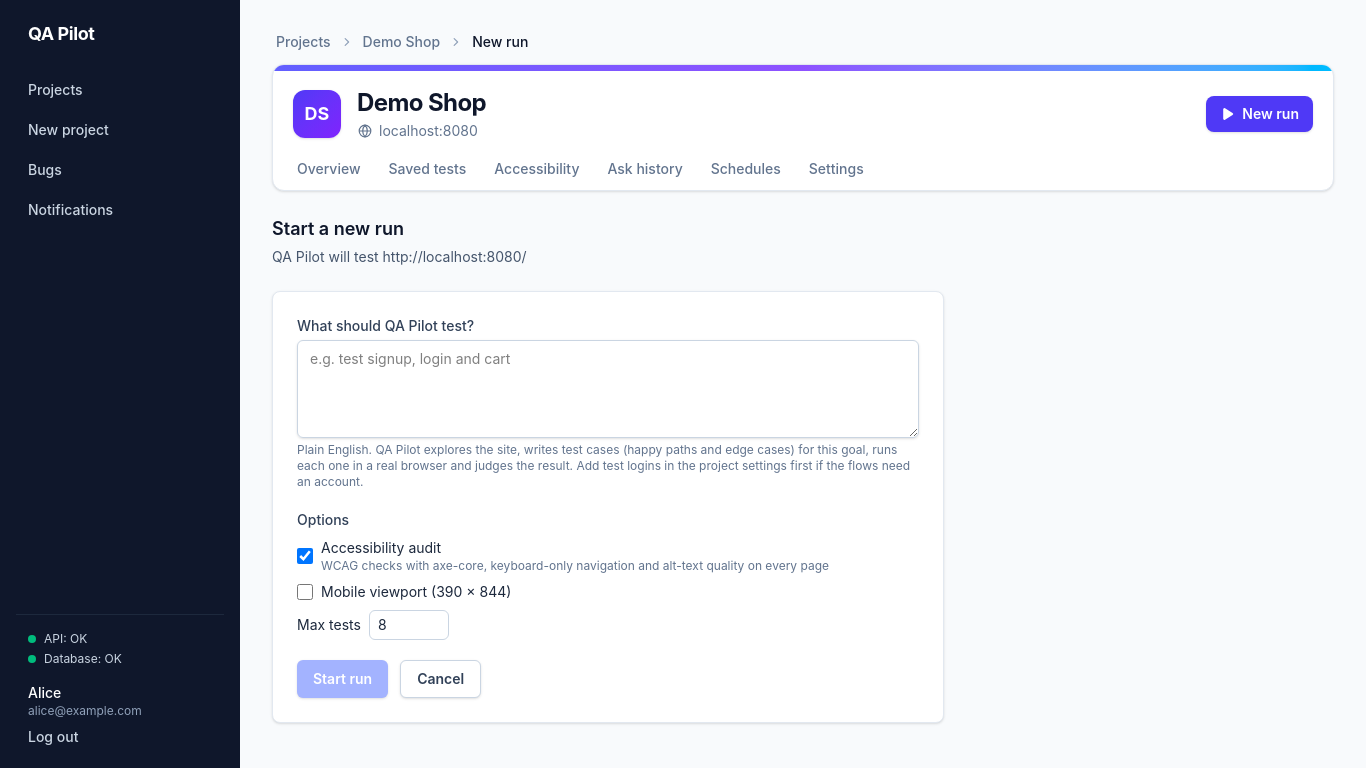
Scenario: runs › shows the error when a run is already in progress
Expected: the button "Start run" is disabled, 297,660 -> 388,698
Type "test signup, login and cart" into the text box labelled "What should QA Pilot test?" at coordinates (608, 389), box 297,340 -> 919,438
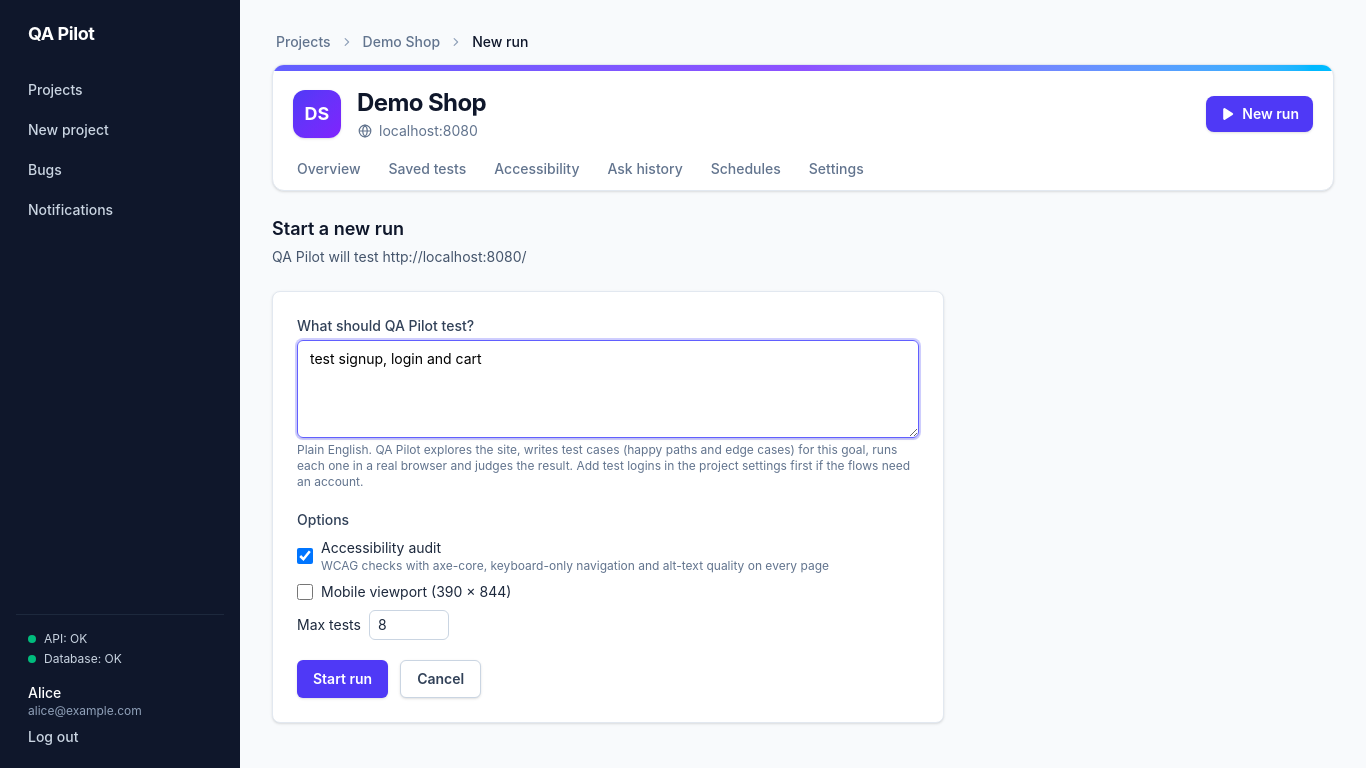
Click the button "Start run" at coordinates (343, 679), box 297,660 -> 388,698
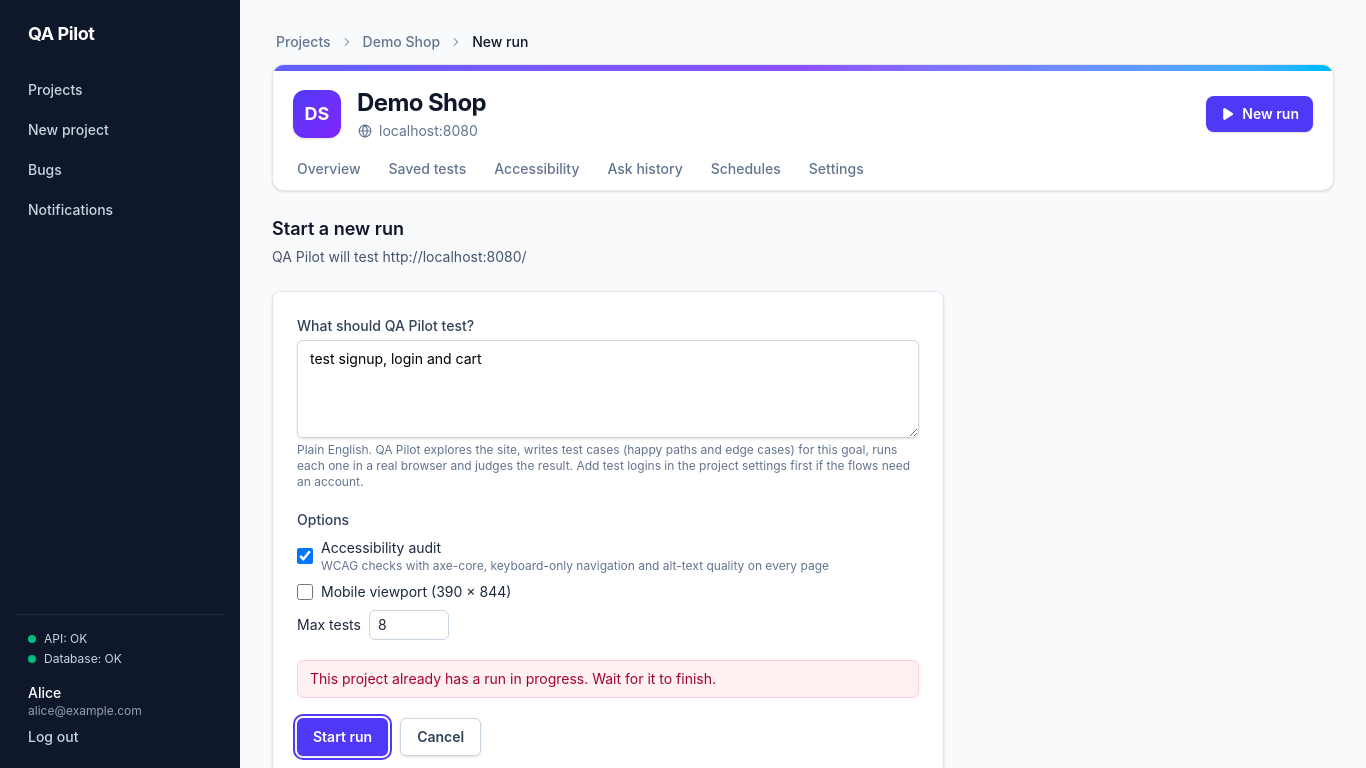
Now the message shows "already has a run in progress", box 310,670 -> 716,687
